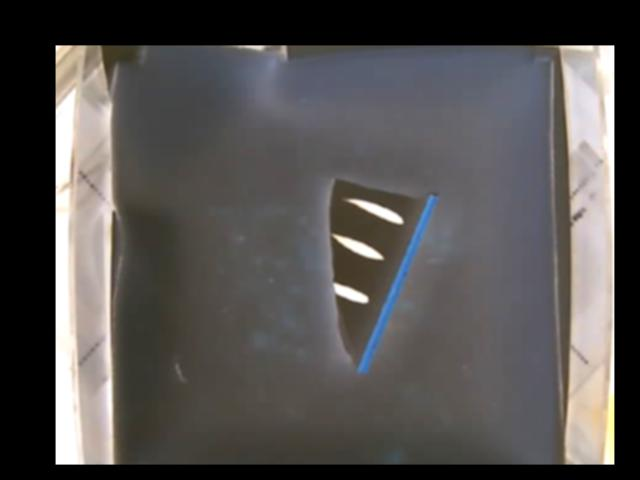China: (328, 176, 438, 372)
